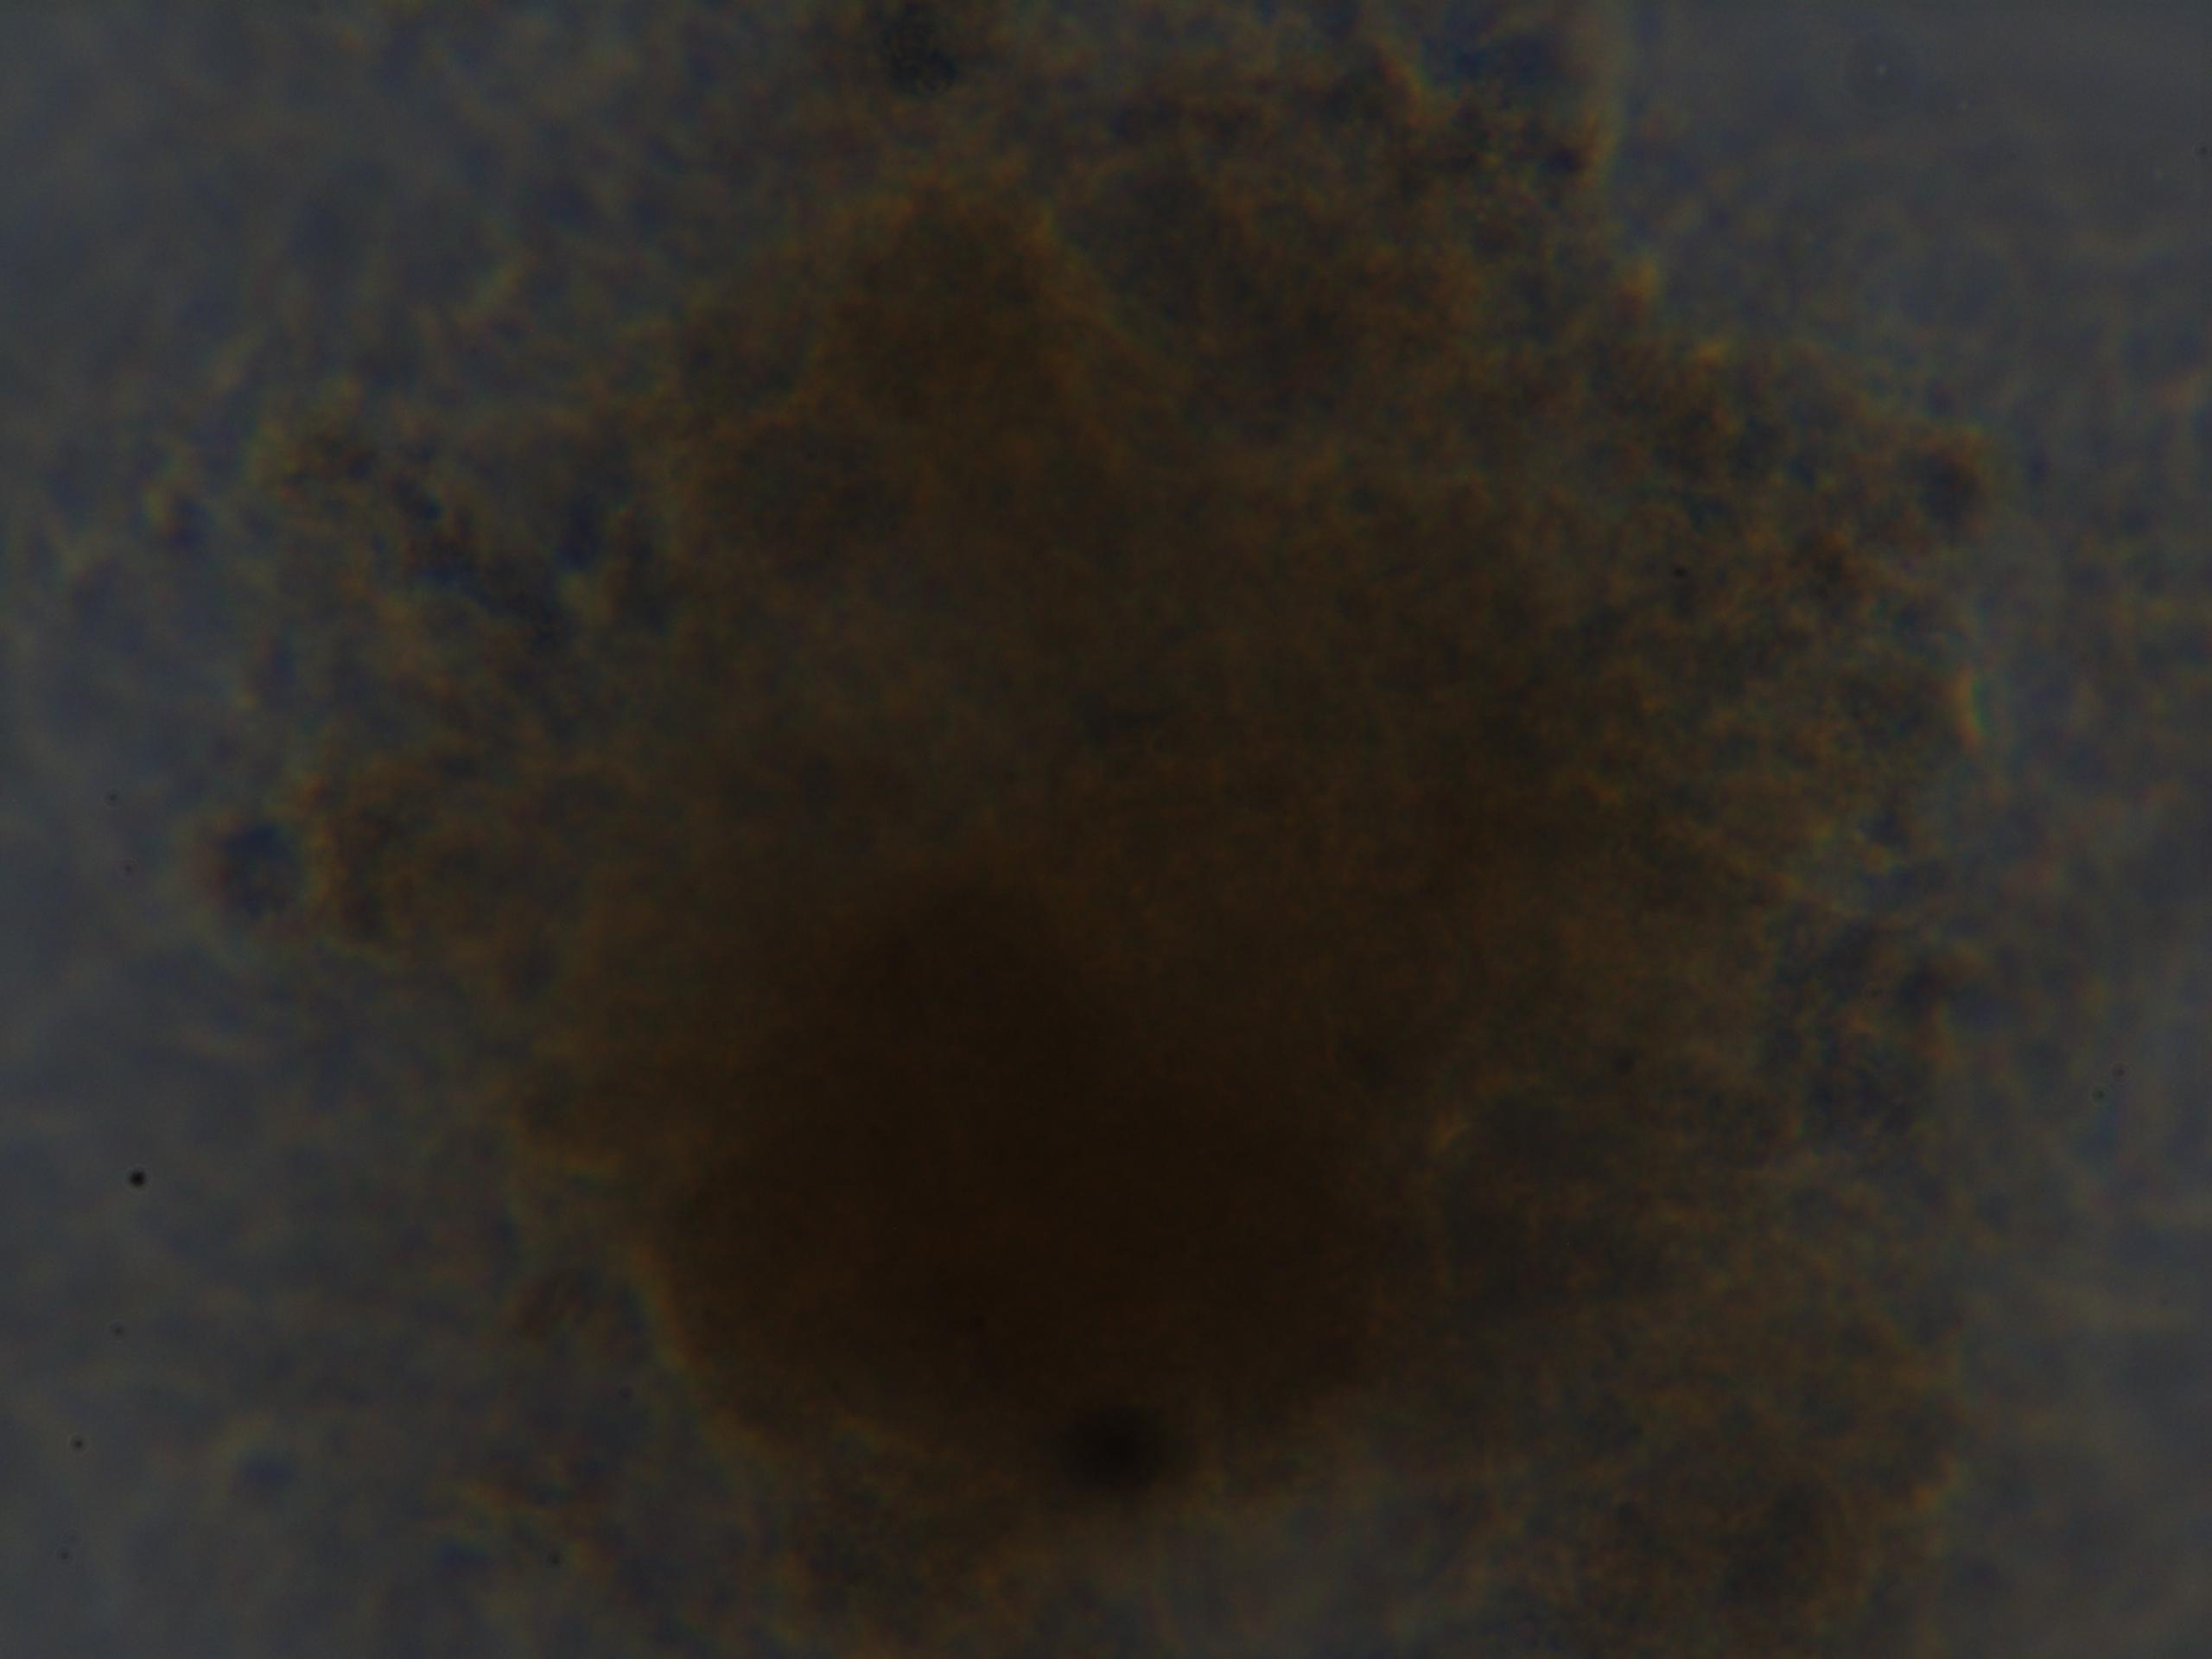spherical_floc: (272, 103, 1926, 1567)
